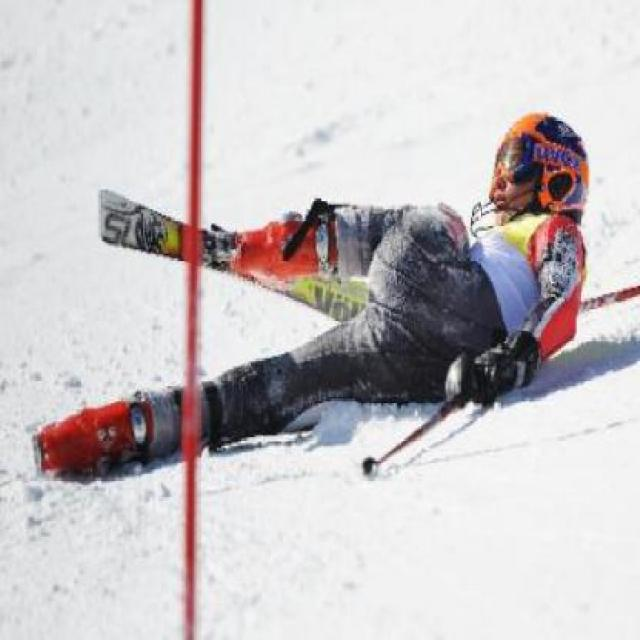fall: (30, 82, 601, 482)
